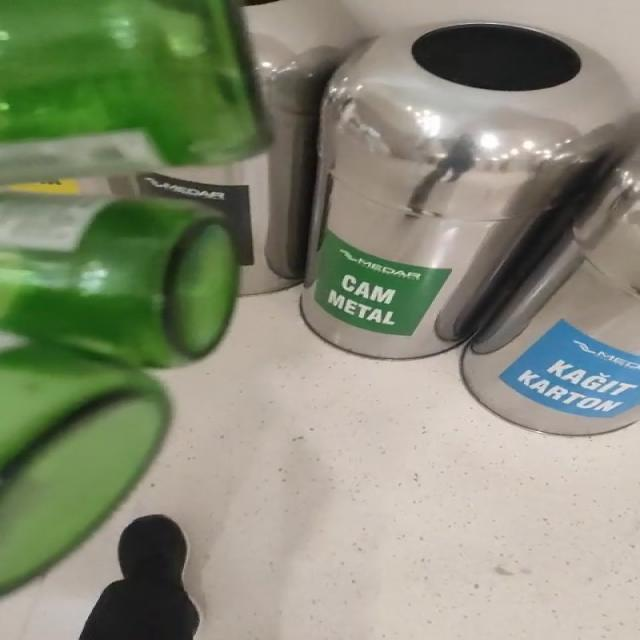glass: (1, 192, 237, 592), (0, 0, 268, 186)
